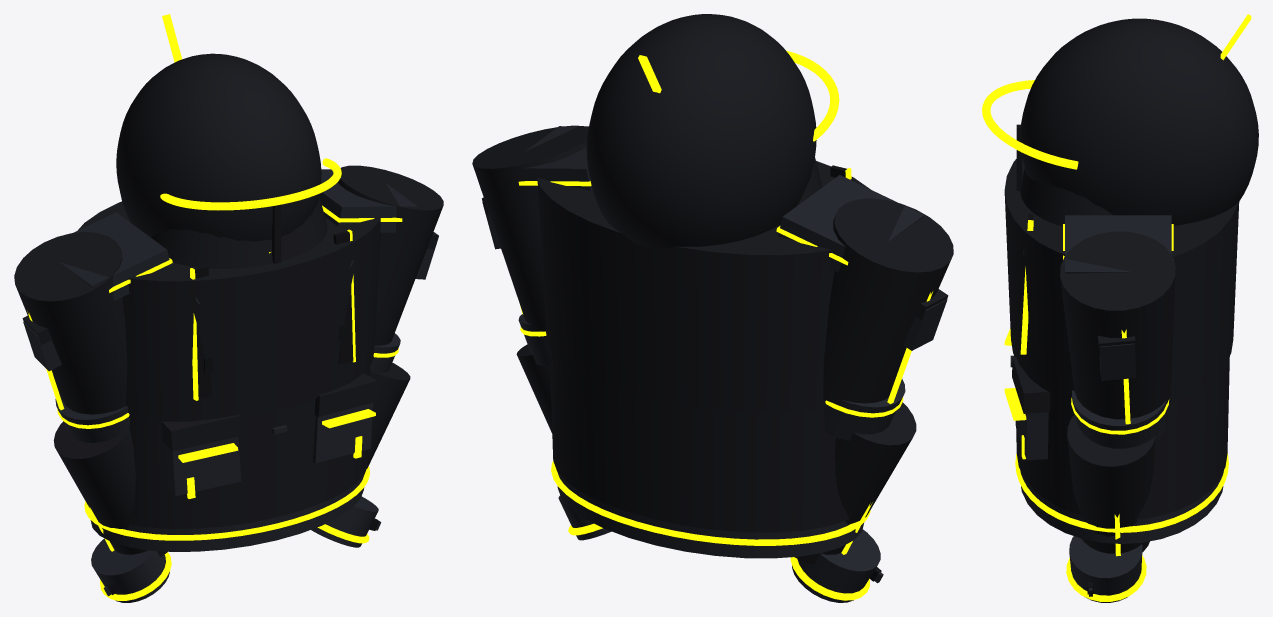
File: hoodie.glb
The picture shows the model from 3 angles, left to right: view 1: azimuth 30°, elevation 25°; view 2: azimuth 150°, elevation 25°; view 3: azimuth 270°, elevation 25°; orthographic projection. The views are drawn at different scales.
Visible parts, largest first — view 1: Aura_Tech_Hoodie_Model, object 5, object 2; view 2: Aura_Tech_Hoodie_Model; view 3: Aura_Tech_Hoodie_Model, object 6.
Part boxes in pixels (x1,y1,x2,y2): Aura_Tech_Hoodie_Model: (14, 14, 443, 602); object 5: (333, 231, 353, 364); object 2: (194, 265, 211, 398); Aura_Tech_Hoodie_Model: (472, 14, 953, 602); Aura_Tech_Hoodie_Model: (982, 14, 1258, 602); object 6: (1020, 220, 1033, 354).
Bounding box in the file's own units: 3.65 × 4.25 × 2.03.
